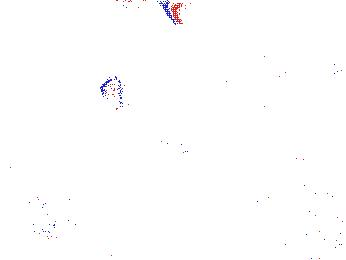X-ray fish: (99, 75, 125, 116)
glassfish: (160, 136, 273, 189)
red belly glassfish: (324, 62, 346, 78)
redtail glassfish: (108, 1, 193, 29), (240, 107, 312, 131)
